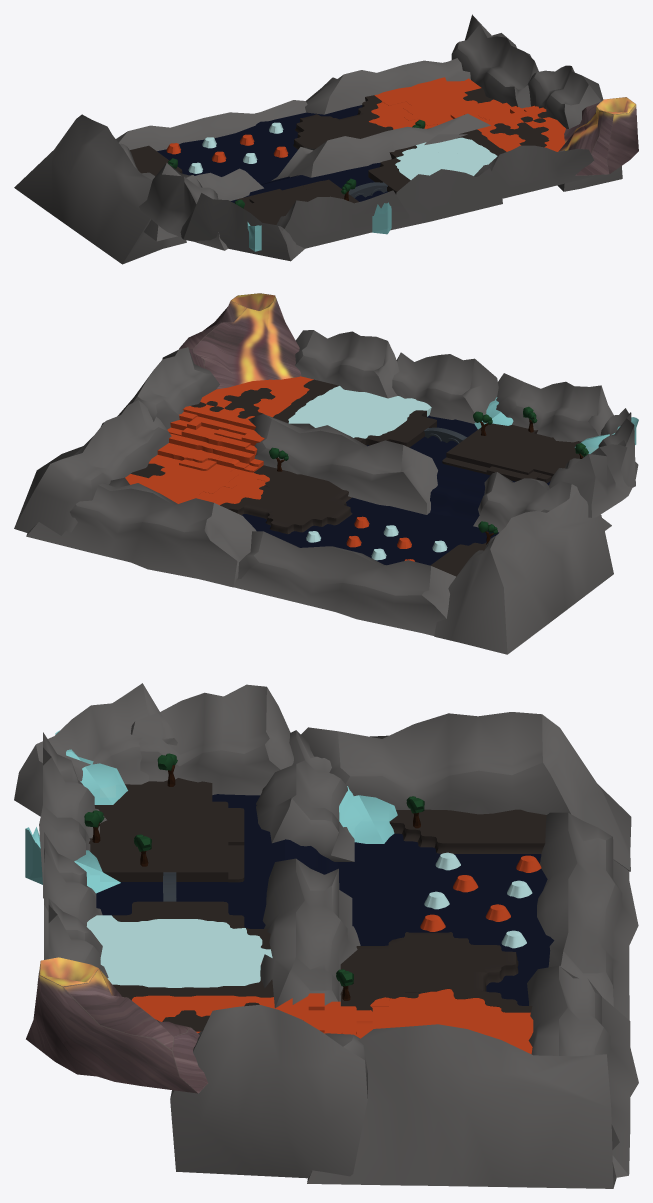
File: Environment 9.FBX
3 views of the same model, one above another, from view 1: azimuth 30°, elevation 25°; view 2: azimuth 150°, elevation 25°; view 3: azimuth 270°, elevation 25° (orthographic). The views are drawn at different scales.
Visible parts, largest first — view 1: MountainR3, Neutral Ground, Lava Ground, Water, MountainC, MountainL2, MountainTR, MountainTC, Volcano, MountainL3, MountainCornerR, MountainTL (+7 smaller); view 2: MountainR3, Neutral Ground, MountainL3, MountainR4, Lava Ground, MountainC, Water, MountainL2, Volcano, MountainTR, MountainTC, MountainTL (+7 smaller); view 3: MountainL2, Neutral Ground, MountainL1, Water, MountainR3, Volcano, MountainR4, MountainR1, MountainC, Frozen Ground, Lava Ground, MountainL3 (+7 smaller).
Boxes of the visible parts, x1=… form: MountainR3: x1=14, y1=114, x2=186, y2=264; Neutral Ground: x1=130, y1=88, x2=549, y2=224; Lava Ground: x1=369, y1=77, x2=565, y2=151; Water: x1=157, y1=105, x2=387, y2=203; MountainC: x1=271, y1=113, x2=490, y2=180; MountainL2: x1=451, y1=14, x2=538, y2=108; MountainTR: x1=276, y1=190, x2=409, y2=248; MountainTC: x1=390, y1=168, x2=502, y2=230; Volcano: x1=558, y1=97, x2=638, y2=175; MountainL3: x1=305, y1=58, x2=470, y2=114; MountainCornerR: x1=180, y1=193, x2=304, y2=261; MountainTL: x1=474, y1=145, x2=597, y2=198; MountainR3: x1=434, y1=492, x2=613, y2=654; Neutral Ground: x1=131, y1=379, x2=583, y2=576; MountainL3: x1=26, y1=477, x2=256, y2=587; MountainR4: x1=234, y1=531, x2=455, y2=635; Lava Ground: x1=125, y1=376, x2=313, y2=505; MountainC: x1=248, y1=414, x2=437, y2=514; Water: x1=242, y1=415, x2=550, y2=565; MountainL2: x1=14, y1=400, x2=171, y2=535; Volcano: x1=179, y1=293, x2=301, y2=389; MountainTR: x1=496, y1=373, x2=613, y2=442; MountainTC: x1=392, y1=352, x2=498, y2=423; MountainTL: x1=295, y1=330, x2=399, y2=398; MountainL2: x1=307, y1=1024, x2=619, y2=1188; Neutral Ground: x1=89, y1=778, x2=546, y2=1031; MountainL1: x1=170, y1=1005, x2=367, y2=1178; Water: x1=96, y1=794, x2=554, y2=1005; MountainR3: x1=301, y1=712, x2=631, y2=871; Volcano: x1=26, y1=957, x2=207, y2=1093; MountainR4: x1=537, y1=812, x2=638, y2=1020; MountainR1: x1=130, y1=684, x2=293, y2=795; MountainC: x1=260, y1=858, x2=360, y2=1008; Frozen Ground: x1=86, y1=915, x2=272, y2=987; Lava Ground: x1=132, y1=989, x2=533, y2=1054; MountainL3: x1=527, y1=965, x2=638, y2=1177.
Bounding box in the file's own units: 822 × 179 × 584.
